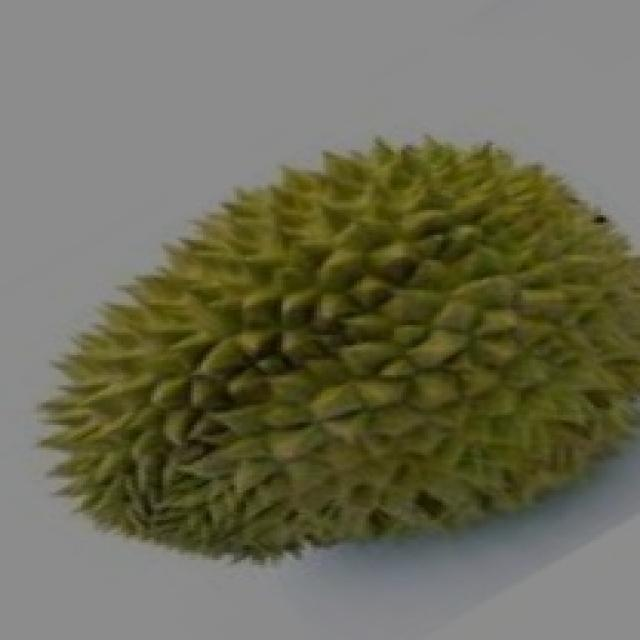fruit: (249, 208, 637, 612), (0, 232, 360, 620)
